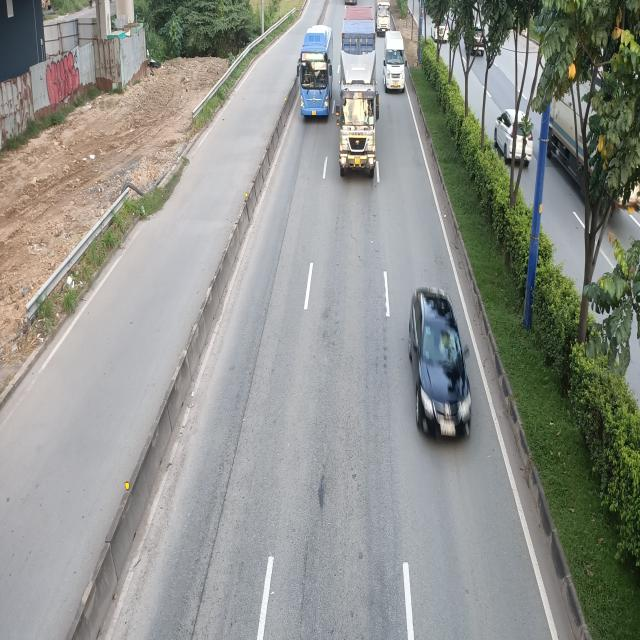car: (406, 286, 470, 439)
coach: (298, 26, 333, 120)
container: (335, 7, 379, 175)
van: (383, 31, 407, 94)
